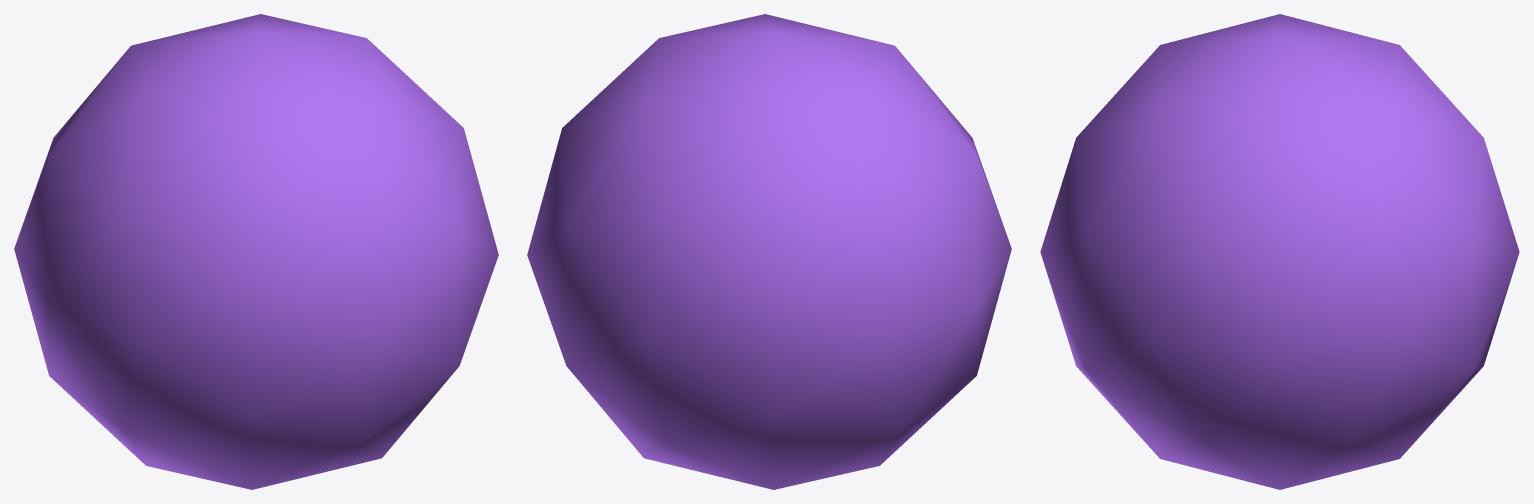
Rendered from 牵引炸弹-gYwMHtsa.gltf.
3 views of the same model, side by side, from view 1: azimuth 30°, elevation 25°; view 2: azimuth 150°, elevation 25°; view 3: azimuth 270°, elevation 25° (orthographic).
Visible parts, largest first — view 1: transparent-shell; view 2: transparent-shell; view 3: transparent-shell.
Boxes of the visible parts, bbox=[...] form: transparent-shell: bbox=[14, 14, 498, 489]; transparent-shell: bbox=[527, 14, 1011, 489]; transparent-shell: bbox=[1040, 14, 1519, 489].
Size of the model in its own units: 1 by 1 by 1.
